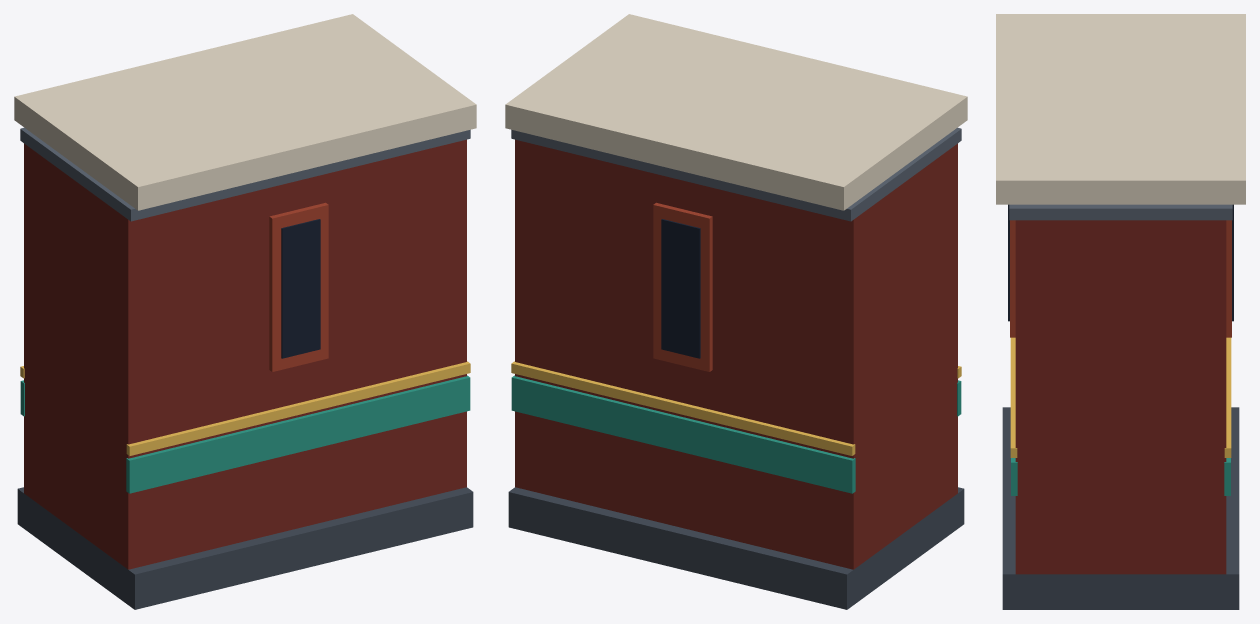
Rendered from bld_ug_wall_short.glb.
3 renders of one model, left to right at view 1: azimuth 30°, elevation 25°; view 2: azimuth 150°, elevation 25°; view 3: azimuth 270°, elevation 25°, orthographic.
Visible parts, largest first — view 1: bld_ug_wall_short; view 2: bld_ug_wall_short; view 3: bld_ug_wall_short.
Boxes of the visible parts, x1,y1,x2,y2 form: bld_ug_wall_short: (14, 14, 476, 609); bld_ug_wall_short: (505, 14, 967, 609); bld_ug_wall_short: (996, 14, 1245, 609).
Size of the model in its own units: 3.02 by 3.6 by 1.9.
Materials: 1 (1 with a texture image).
